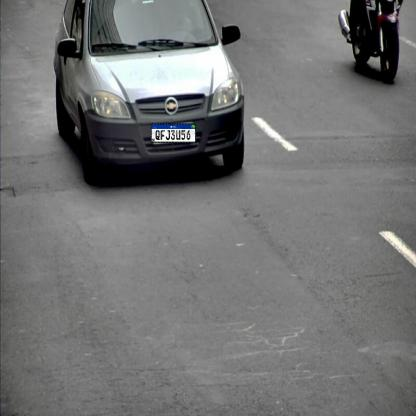PlacaM: (151, 123, 196, 143)
